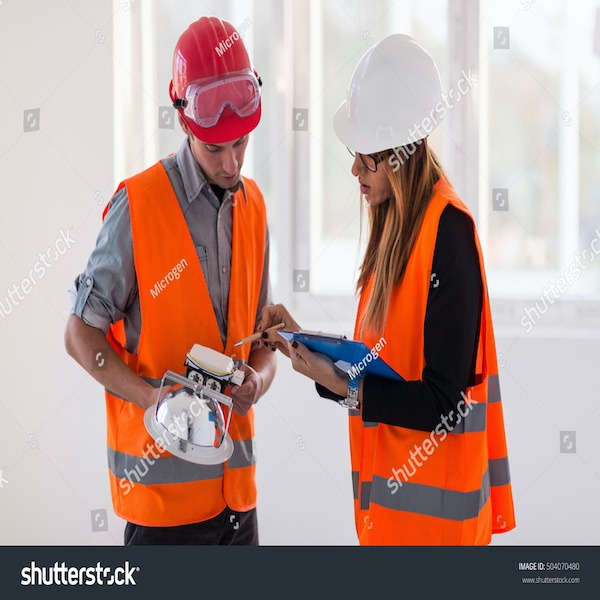helmet: (339, 35, 447, 156), (170, 15, 264, 143)
vest: (104, 177, 269, 528), (350, 199, 517, 542)
